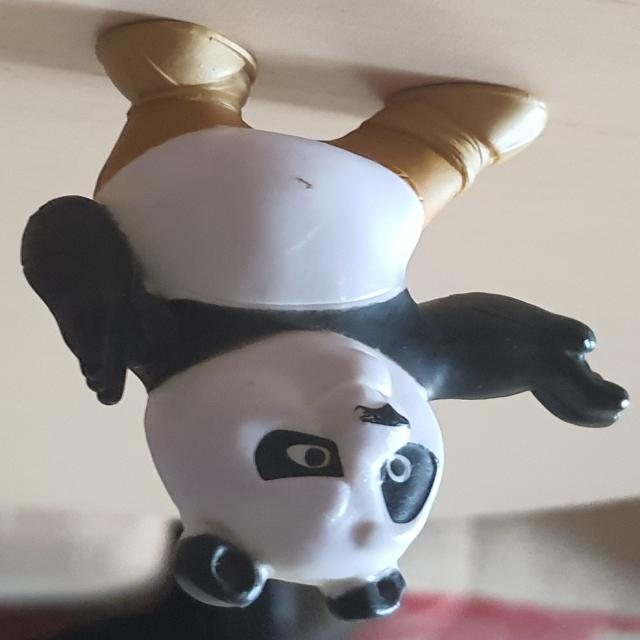Panda: (19, 19, 630, 623)
